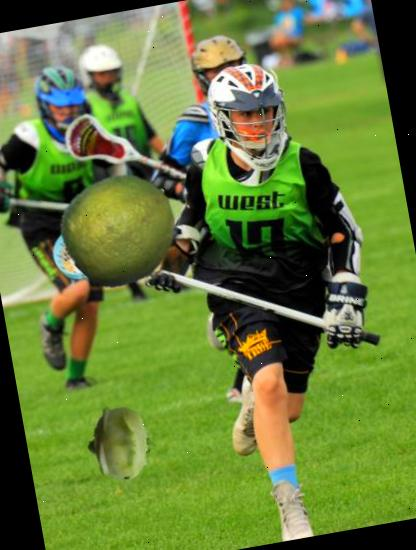Kohlrabi: (77, 399, 165, 486)
Limes: (52, 160, 188, 296)
